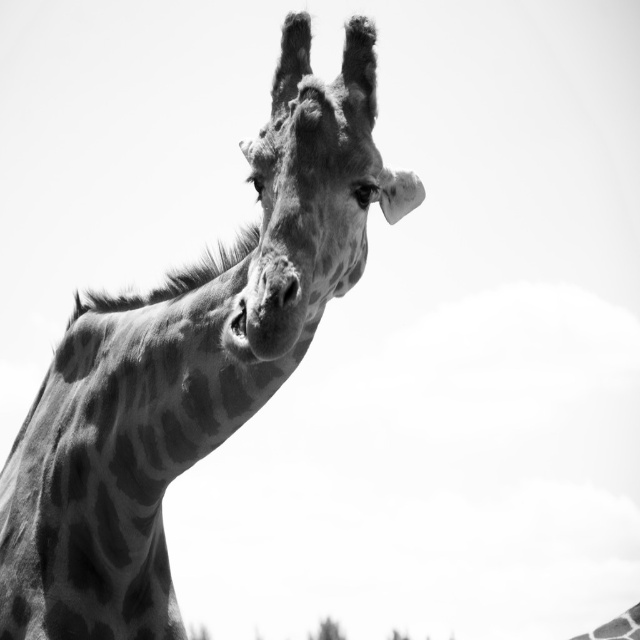Giraffe: (0, 12, 426, 639)
